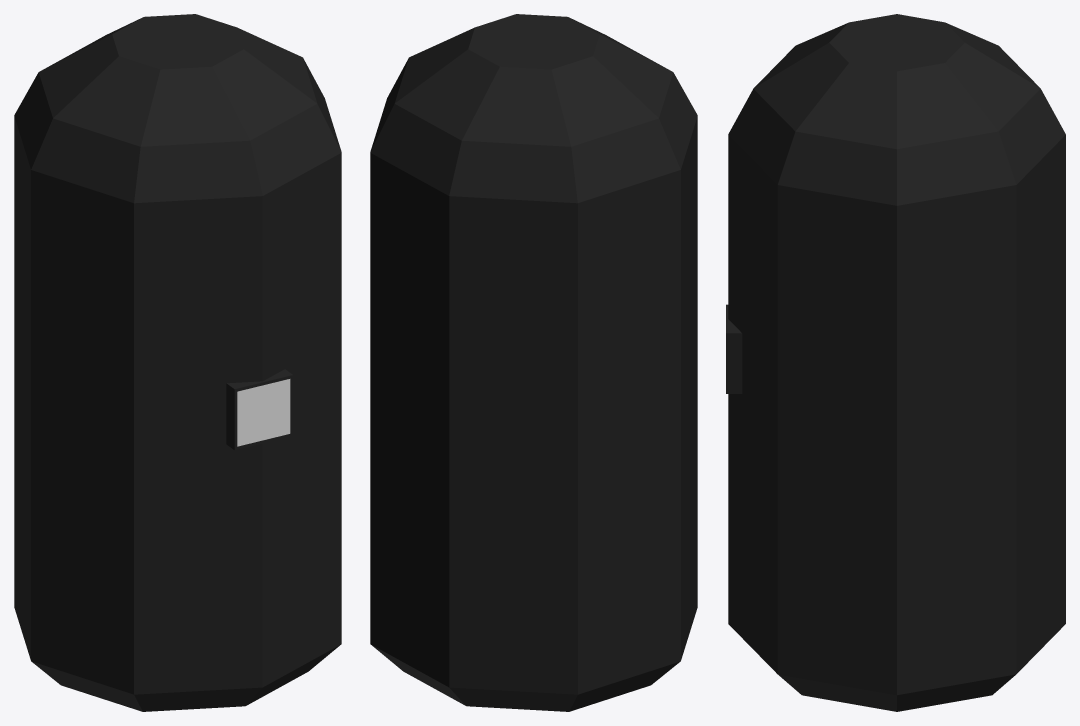
File: model-scenario-dynamic-event-eletronic-capsule.fbx
3 renders of one model, left to right at view 1: azimuth 30°, elevation 25°; view 2: azimuth 150°, elevation 25°; view 3: azimuth 270°, elevation 25°, orthographic.
Visible parts, largest first — view 1: eletronic_capsule, eletronic_door; view 2: eletronic_capsule; view 3: eletronic_capsule, eletronic_door.
Boxes of the visible parts, left/top/right/bottom form: eletronic_capsule: left=14, top=14, right=341, bottom=711; eletronic_door: left=134, top=153, right=341, bottom=694; eletronic_capsule: left=370, top=14, right=697, bottom=711; eletronic_capsule: left=728, top=14, right=1065, bottom=711; eletronic_door: left=726, top=135, right=777, bottom=673.
Bounding box in the file's own units: 2.01 × 2 × 4.
Materials: 3 (1 with a texture image).
